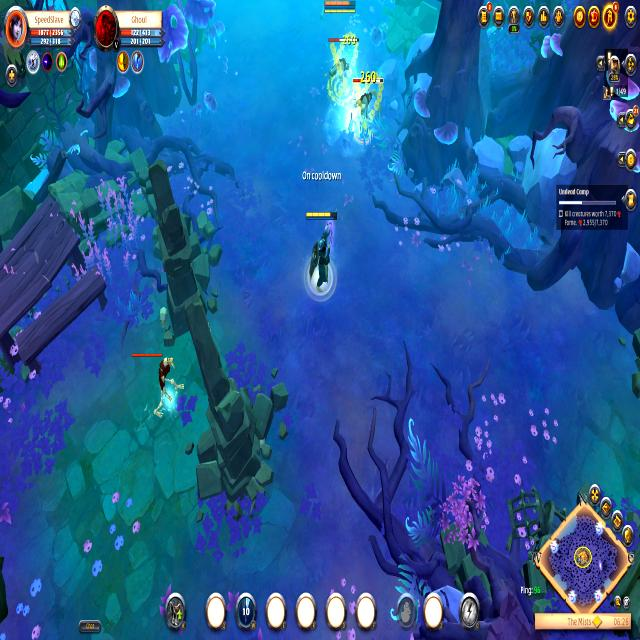ore: (126, 345, 186, 419), (344, 76, 393, 142), (322, 27, 358, 94)
red: (302, 203, 343, 306), (321, 0, 358, 16)
